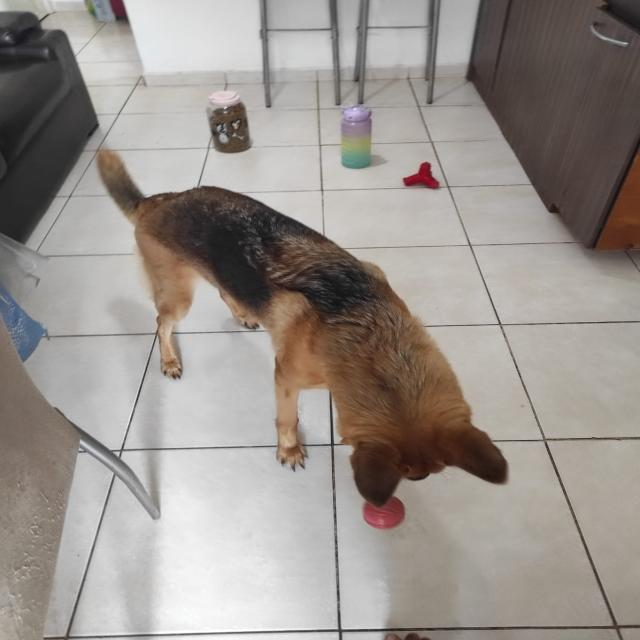bolinha: (360, 497, 408, 536)
brinquedo caro: (397, 157, 445, 196)
cachorro: (98, 135, 517, 525)
garrafinha de agua: (330, 102, 382, 174)
racao: (188, 81, 260, 161)
